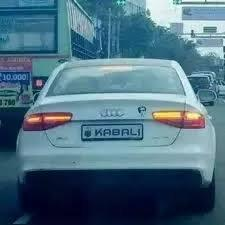Liscence Plate: (77, 124, 143, 142)
